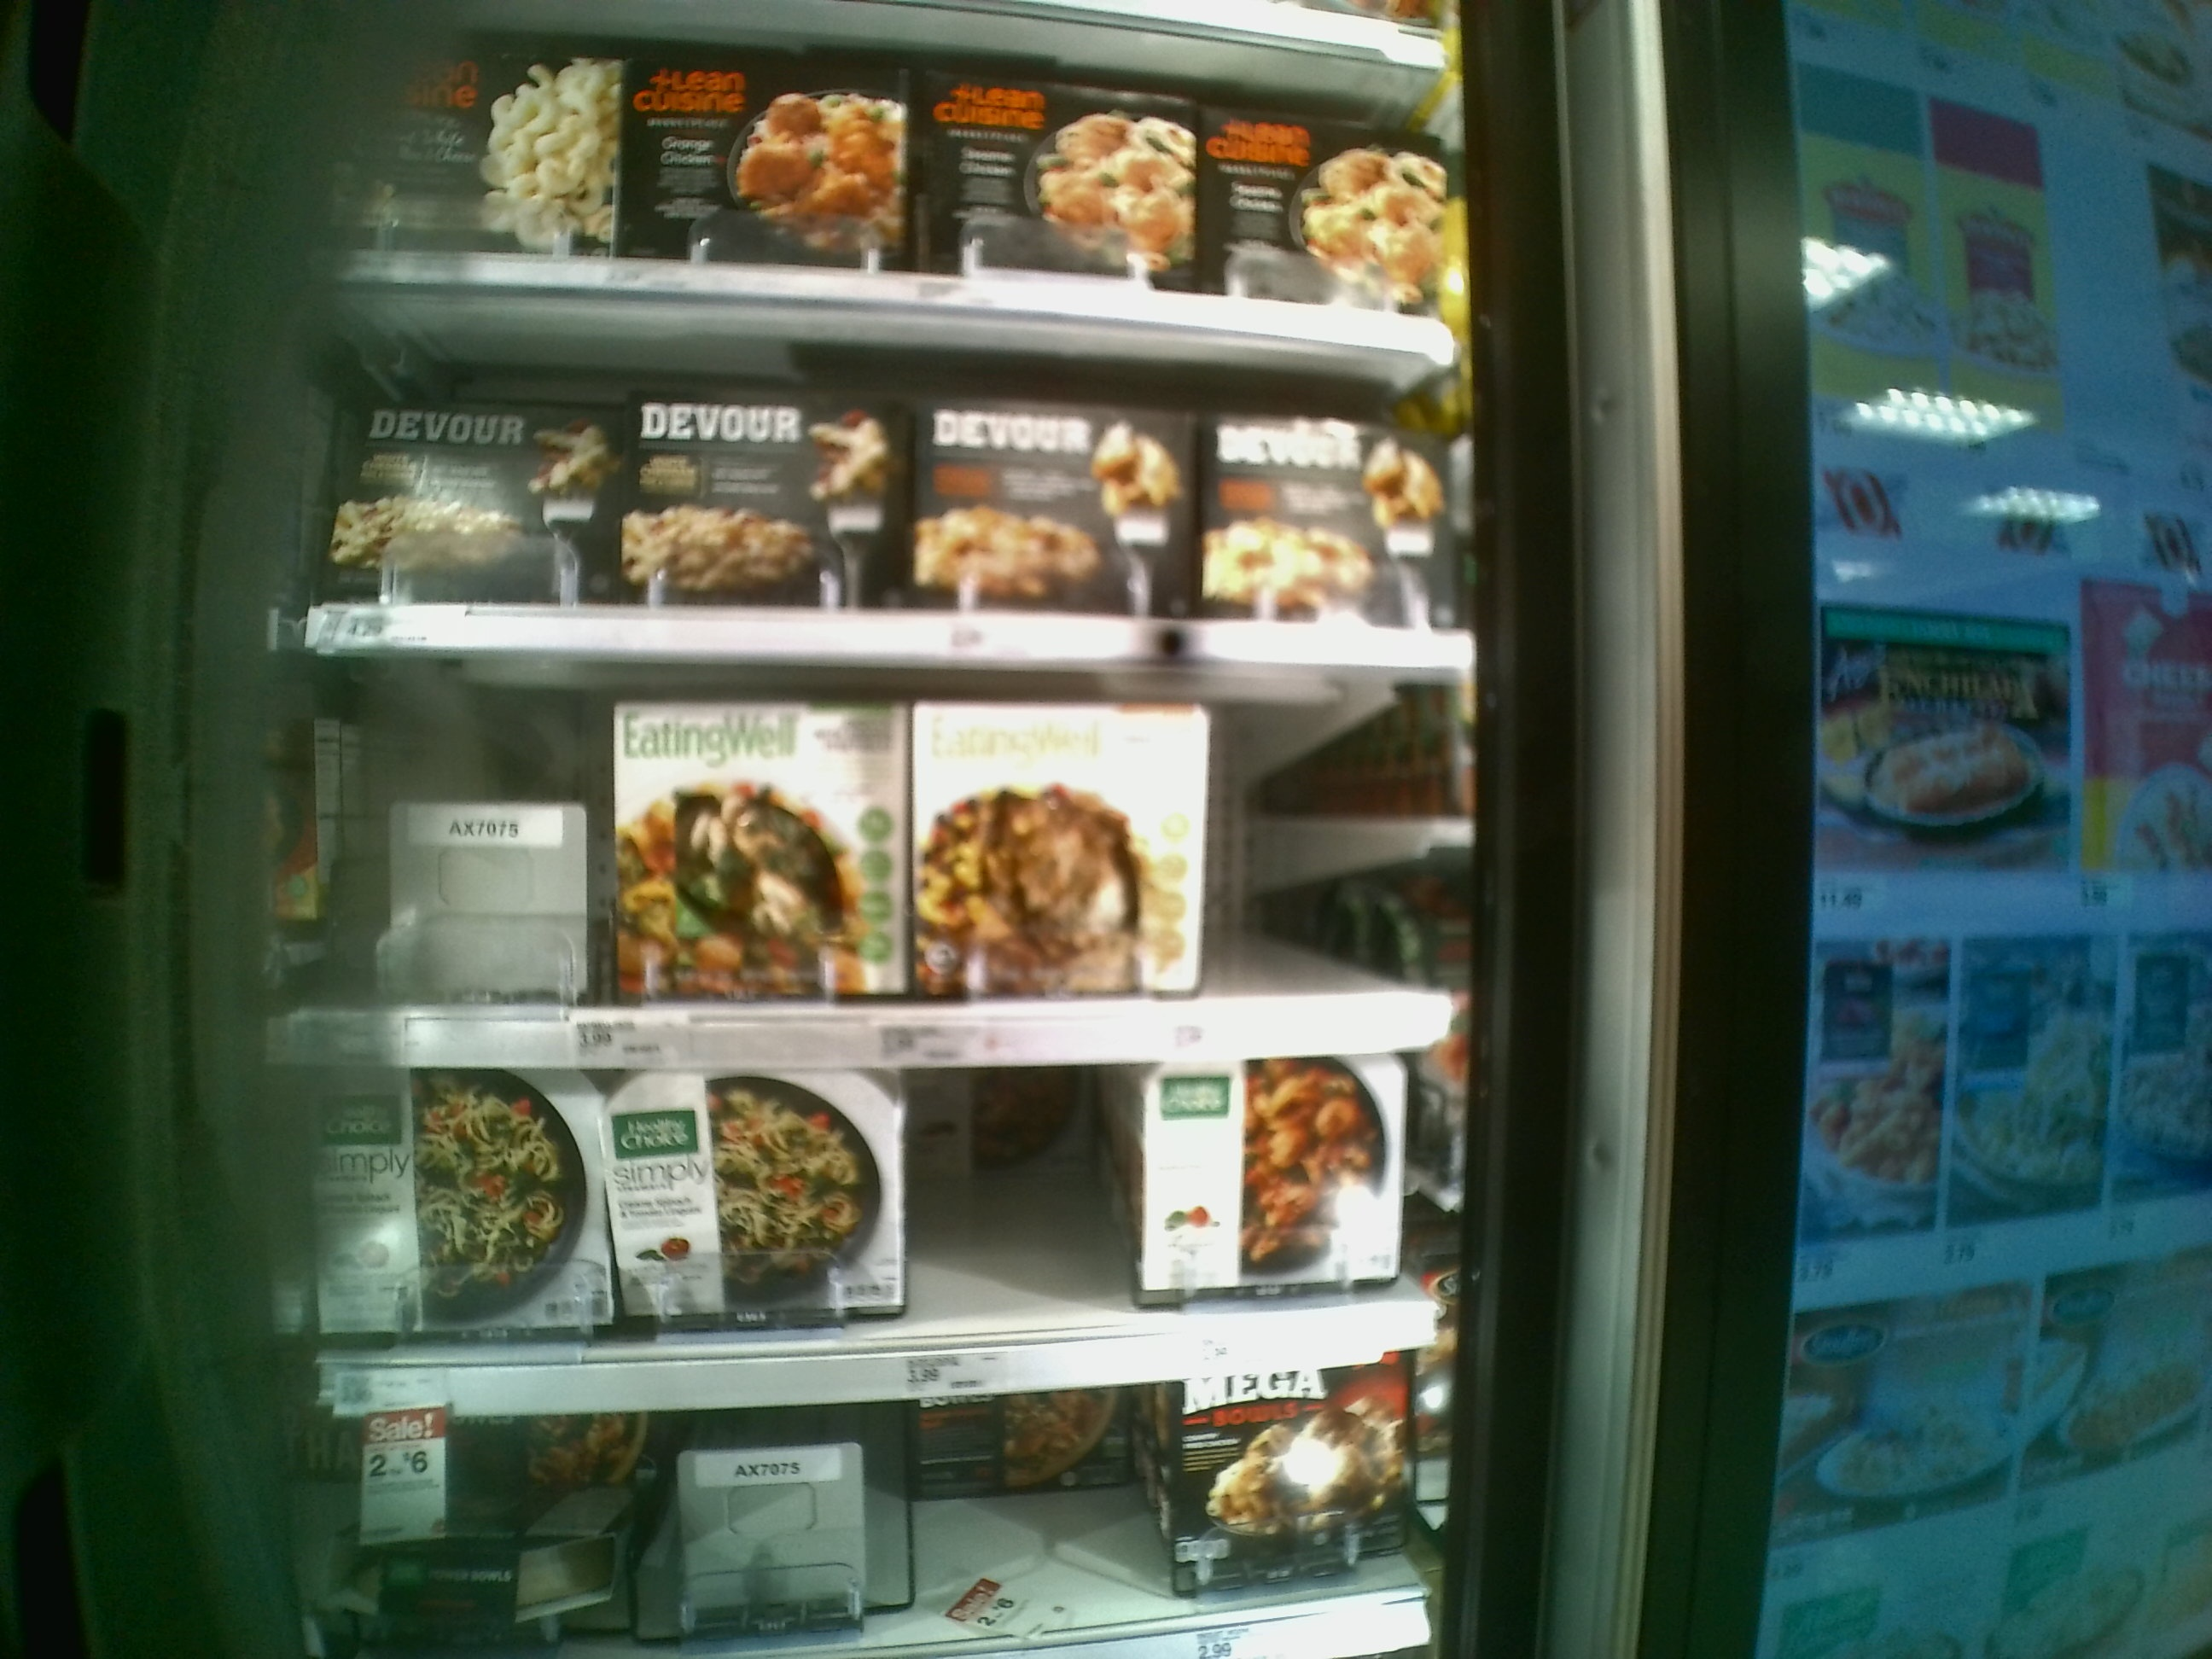pizza: (611, 709, 920, 999), (923, 706, 1219, 990), (310, 1063, 622, 1326), (611, 1075, 914, 1321), (631, 45, 918, 251), (1183, 1361, 1432, 1598), (1144, 1056, 1407, 1274), (913, 404, 1183, 612), (932, 68, 1197, 267), (336, 392, 606, 584), (618, 401, 873, 603), (369, 49, 611, 251), (1205, 416, 1447, 608), (1195, 122, 1444, 295)
